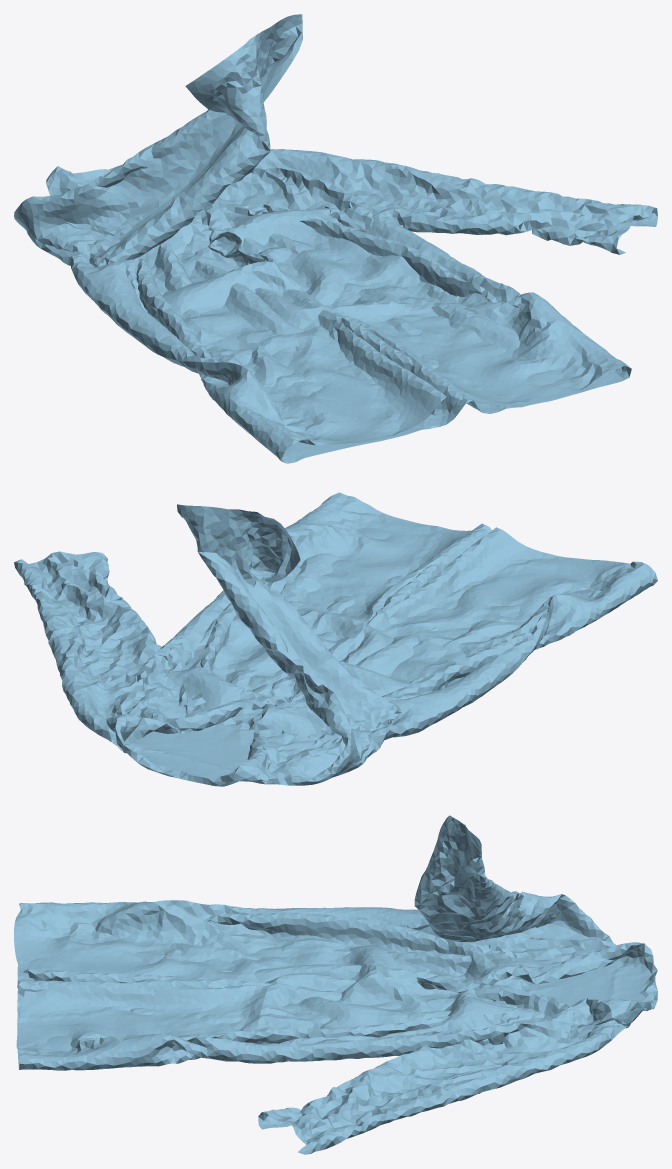
The model's file is frame_17.glb.
3 views of the same model, one above another, from view 1: azimuth 30°, elevation 25°; view 2: azimuth 150°, elevation 25°; view 3: azimuth 270°, elevation 25° (orthographic). The views are drawn at different scales.
Visible parts, largest first — view 1: frame_17.obj; view 2: frame_17.obj; view 3: frame_17.obj.
Part boxes in pixels (left/top/right/bottom): frame_17.obj: left=14, top=14, right=657, bottom=463; frame_17.obj: left=14, top=492, right=657, bottom=786; frame_17.obj: left=14, top=815, right=657, bottom=1154.
Size of the model in its own units: 1.49 by 0.5511 by 1.68.
